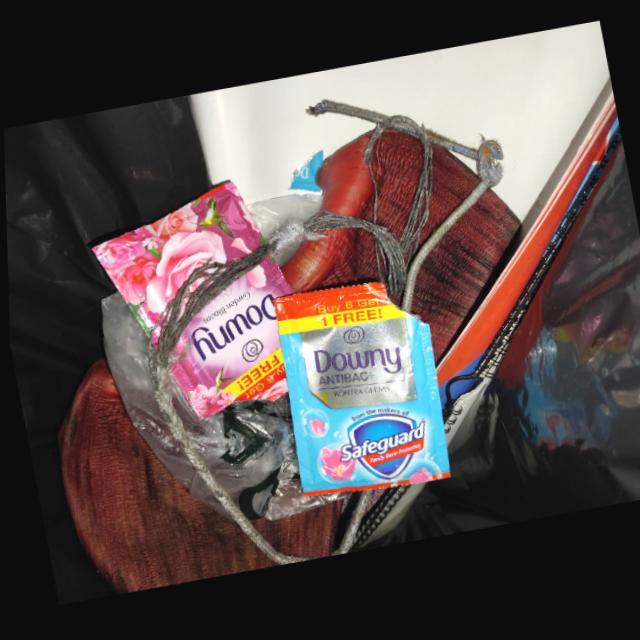biowaste: (58, 359, 276, 595), (410, 192, 520, 364), (314, 130, 424, 240), (417, 145, 481, 250), (279, 230, 378, 295), (246, 499, 345, 563)
wrapper: (90, 182, 291, 421), (271, 284, 448, 499)
